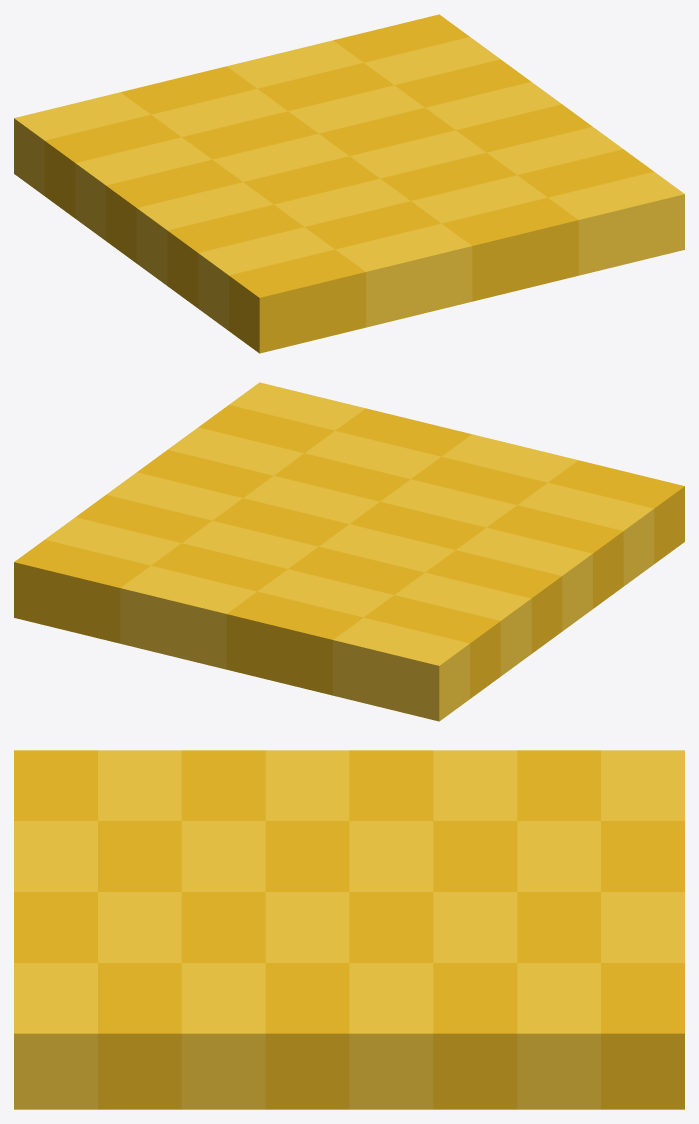
Rendered from carpet_yellow_model.glb.
The picture shows the model from 3 angles, top to bottom: view 1: azimuth 30°, elevation 25°; view 2: azimuth 150°, elevation 25°; view 3: azimuth 270°, elevation 25°; orthographic projection. The views are drawn at different scales.
Visible parts, largest first — view 1: Untitled; view 2: Untitled; view 3: Untitled.
Part boxes in pixels (left/top/right/bottom): Untitled: left=14, top=14, right=684, bottom=353; Untitled: left=14, top=382, right=684, bottom=721; Untitled: left=14, top=750, right=684, bottom=1109.
Size of the model in its own units: 0.8 by 0.1 by 0.8.
1 material, 1 textured.
